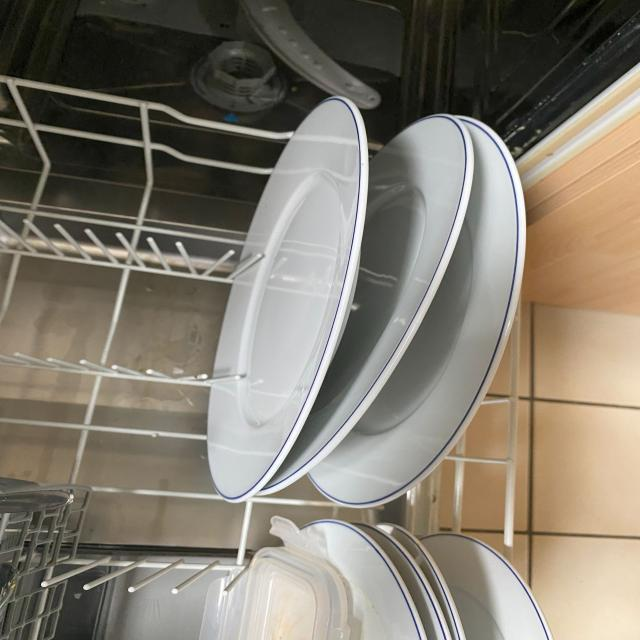empty_slot: (4, 85, 211, 538)
